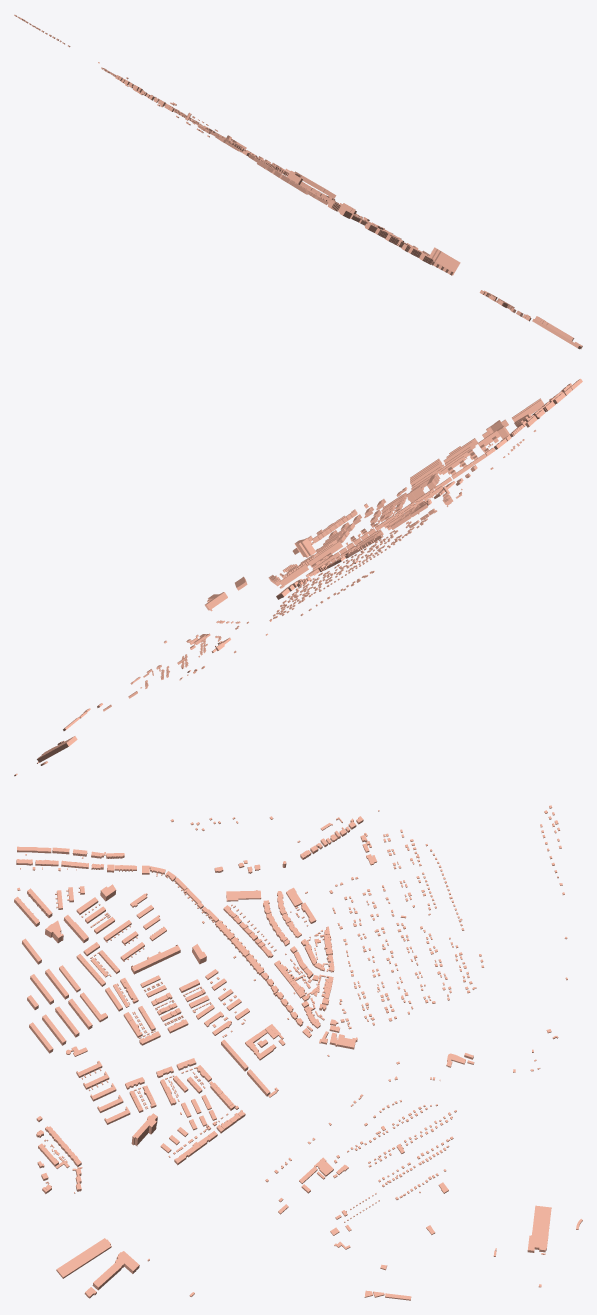
The picture shows the model from 3 angles, top to bottom: view 1: azimuth 30°, elevation 25°; view 2: azimuth 150°, elevation 25°; view 3: azimuth 270°, elevation 25°; orthographic projection. The views are drawn at different scales.
Bounding box in the file's own units: 1012 × 745 × 1245.
